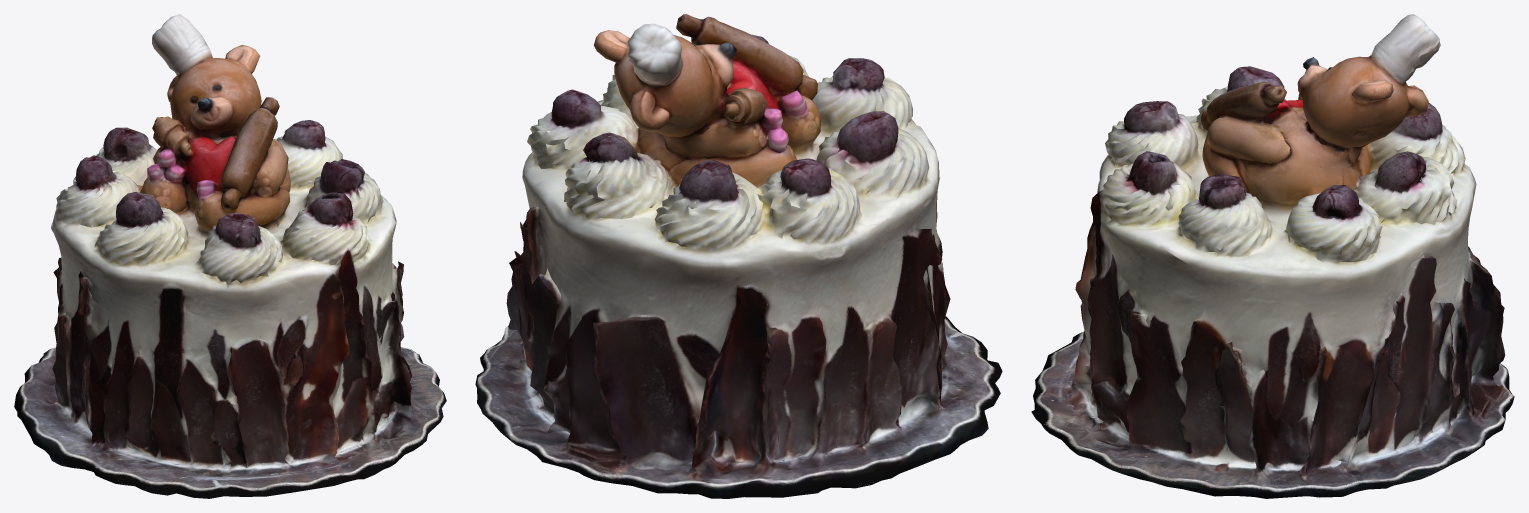
File: chocolate.glb
3 views of the same model, side by side, from view 1: azimuth 30°, elevation 25°; view 2: azimuth 150°, elevation 25°; view 3: azimuth 270°, elevation 25° (orthographic). The views are drawn at different scales.
Bounding box in the file's own units: 0.2148 × 0.1868 × 0.2119.
1 material, 1 textured.
